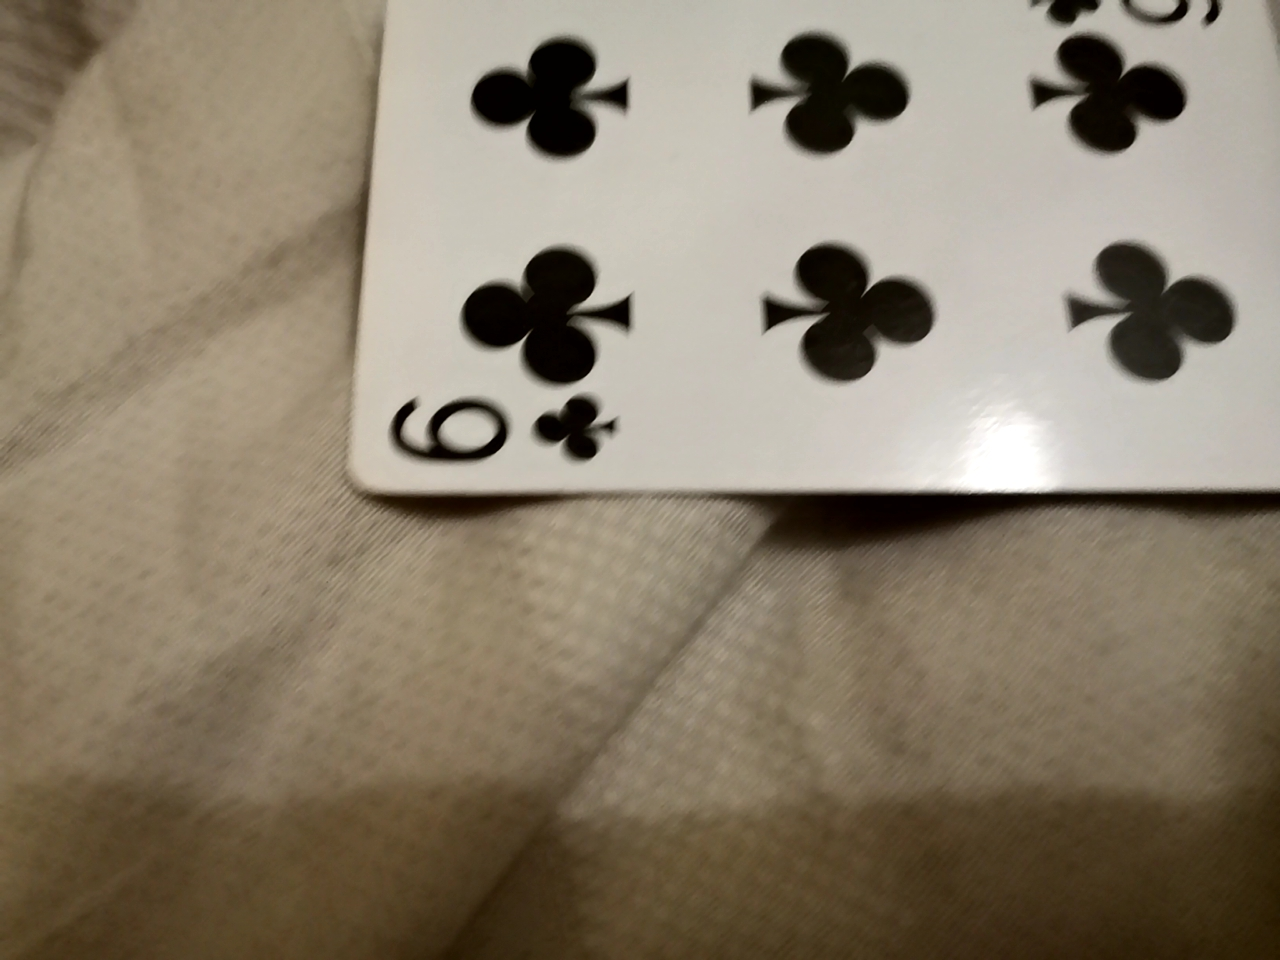mh 6: (309, 6, 1274, 588)
